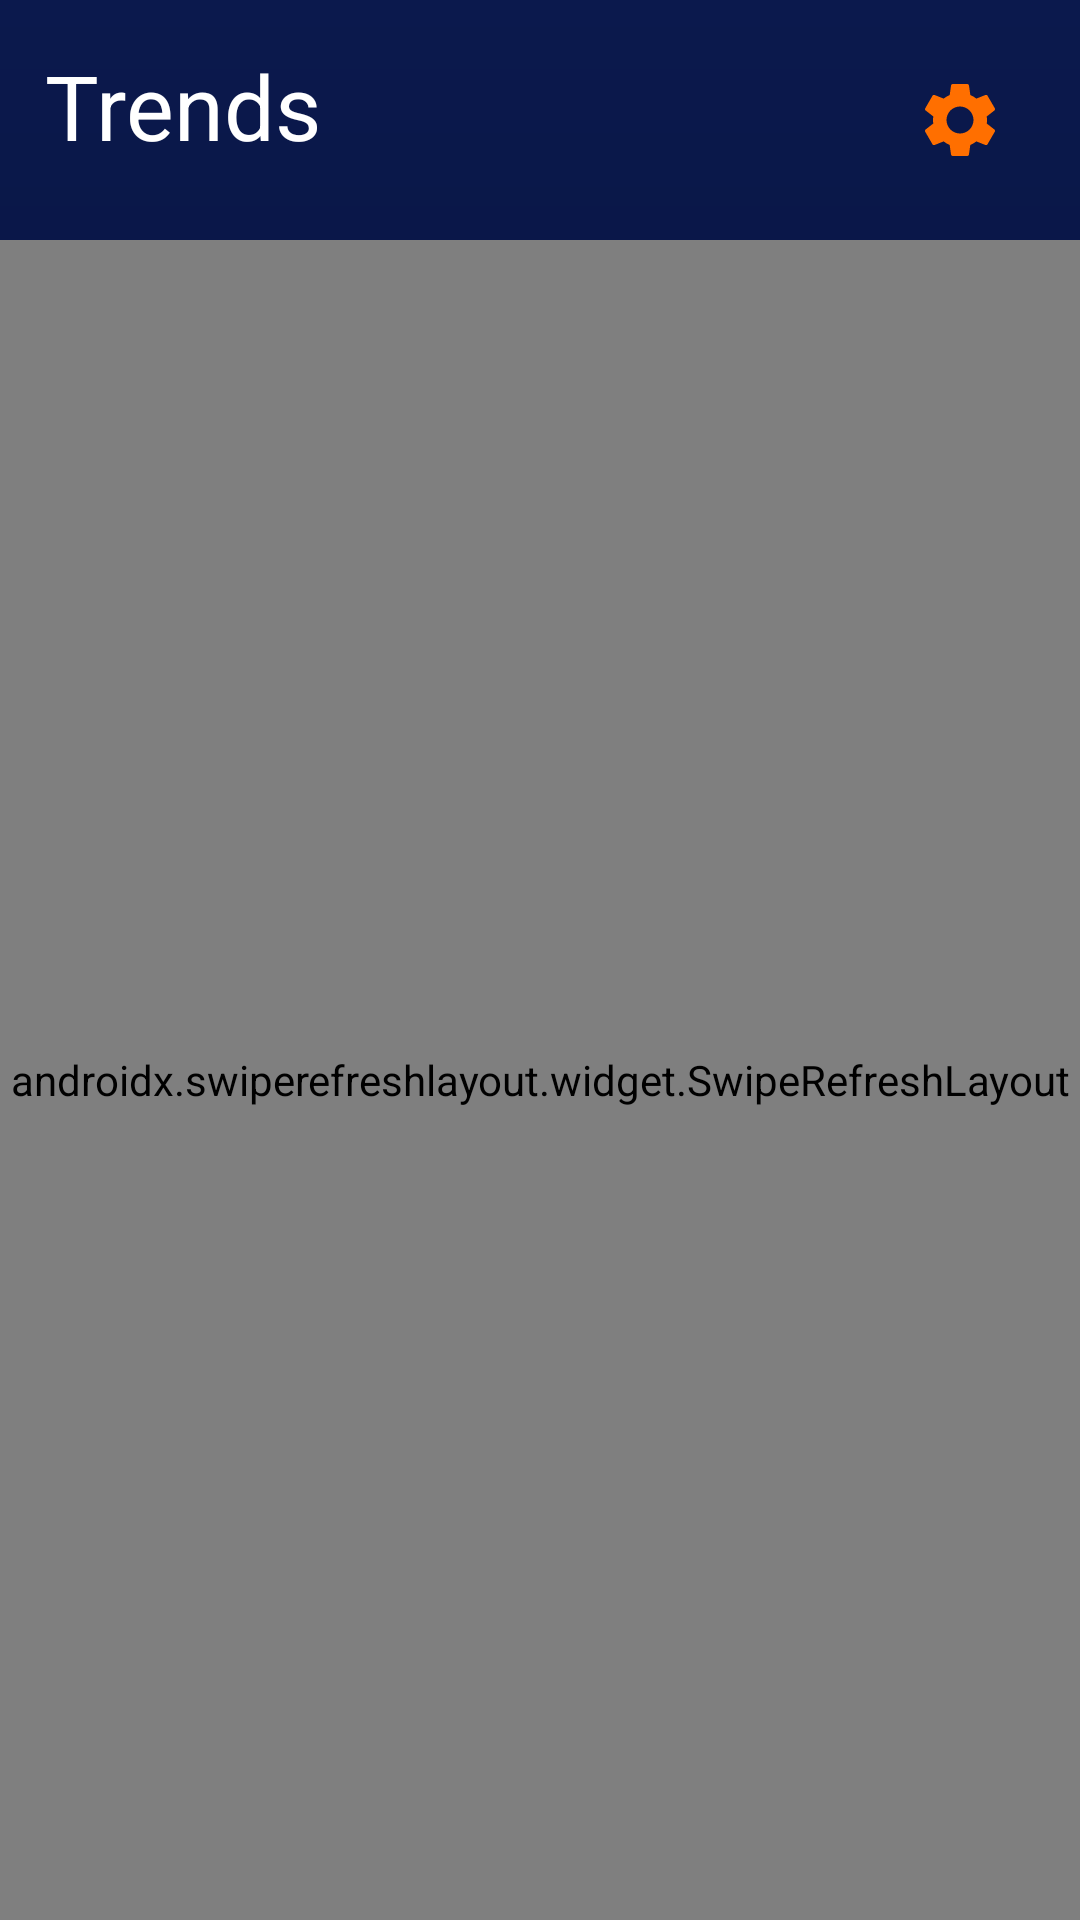

Point at icon controls on the screen. Image size 1080x1920, points as (x=x, y=y).
settings: (x=960, y=120)
